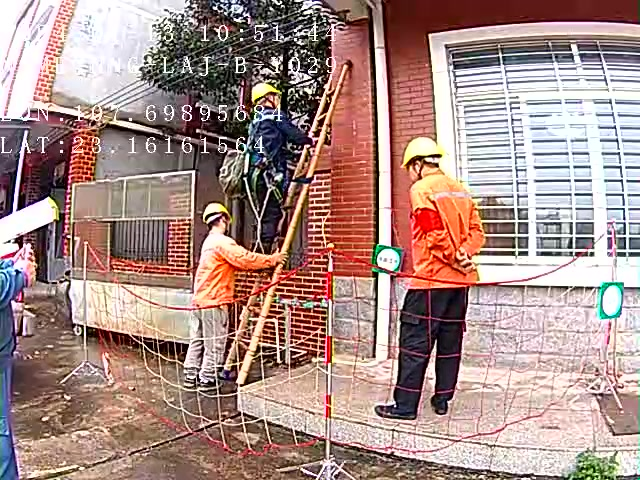halt: (404, 139, 447, 182), (205, 206, 236, 236), (254, 87, 285, 113)
inear: (410, 160, 429, 181)
